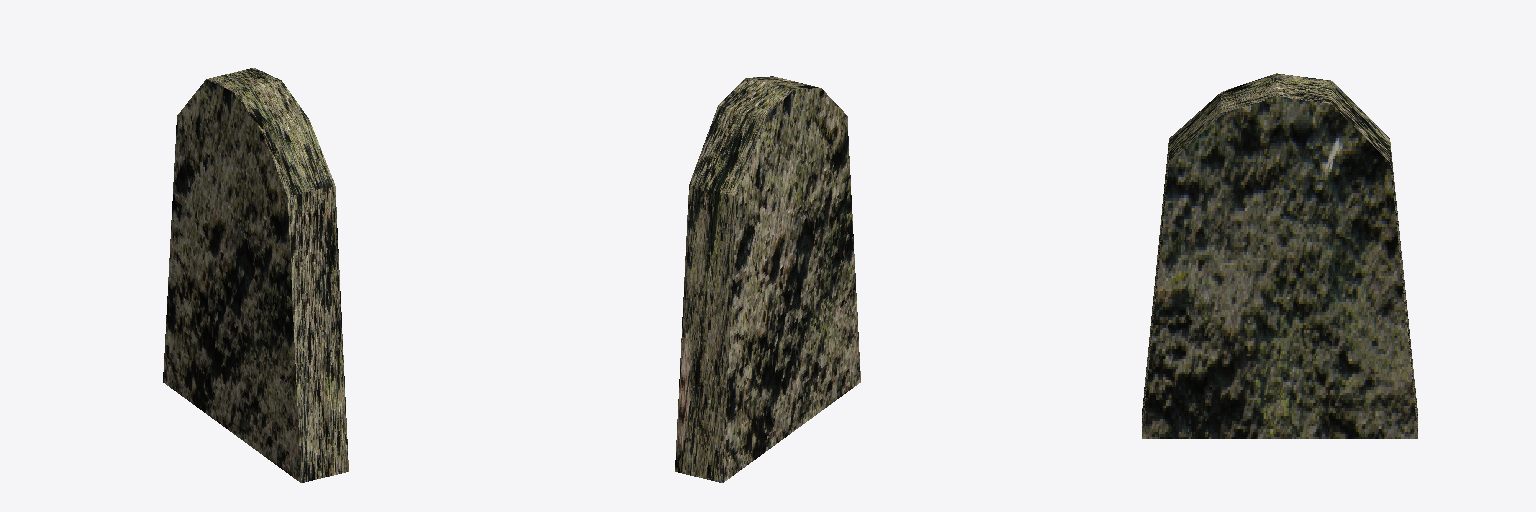
3 renders of one model, left to right at view 1: azimuth 30°, elevation 25°; view 2: azimuth 150°, elevation 25°; view 3: azimuth 270°, elevation 25°, orthographic.
Parts seen in each view (by area): view 1: Tomb; view 2: Tomb; view 3: Tomb.
Boxes of the visible parts, box(x1,y1,x2,y2) form: Tomb: box(163, 68, 348, 482); Tomb: box(675, 76, 860, 482); Tomb: box(1142, 73, 1417, 438).
Bounding box in the file's own units: 0.4 × 2.73 × 2.
1 materials, 1 textured.